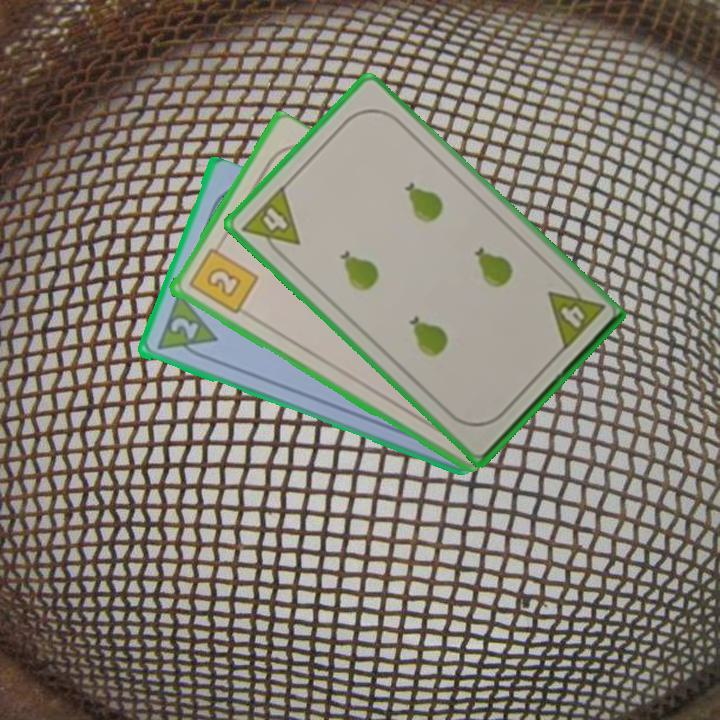2b: (184, 238, 260, 317)
2p: (152, 292, 220, 364)
4p: (238, 182, 303, 263), (544, 274, 607, 354)
